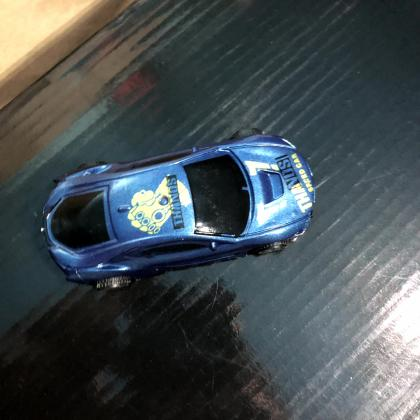Car: (38, 125, 320, 293)
